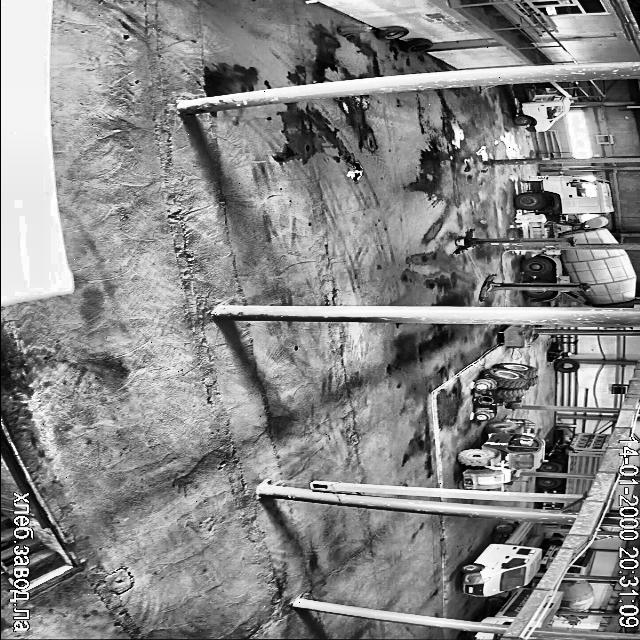class6: (458, 418, 544, 489), (474, 362, 538, 420)
class7: (516, 176, 615, 244), (522, 248, 636, 306), (460, 521, 541, 596), (540, 433, 612, 473), (515, 84, 571, 132), (482, 588, 532, 624), (557, 580, 594, 610), (538, 477, 592, 494), (538, 592, 562, 628), (540, 534, 563, 569), (567, 549, 595, 574), (542, 500, 580, 510), (467, 632, 500, 640), (564, 616, 585, 620), (602, 218, 604, 221)
truck: (479, 274, 588, 300), (455, 229, 572, 252)
